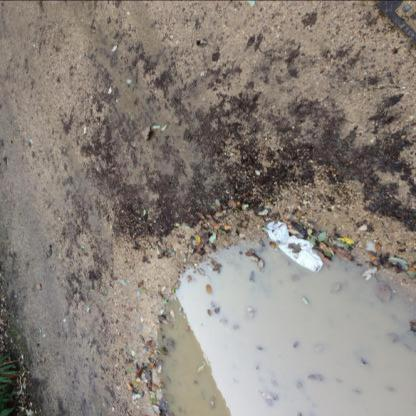Plastic bag - wrapper: (265, 221, 323, 272)
